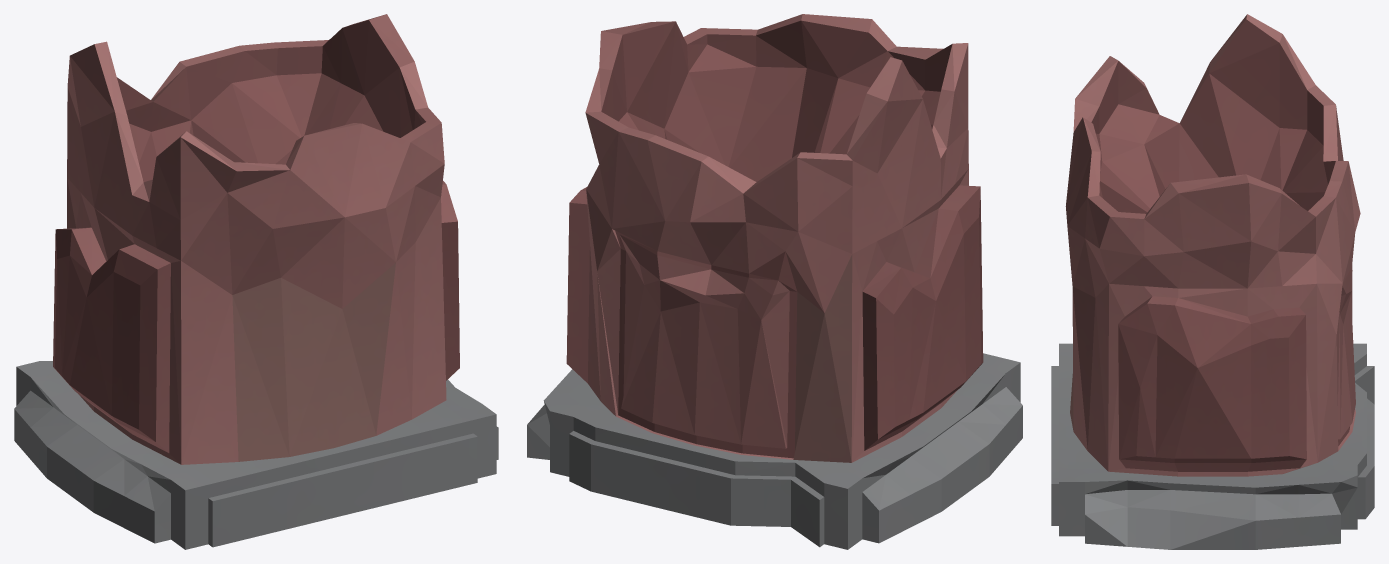
Rendered from gas_pump_D_destroyed.obj.
The picture shows the model from 3 angles, left to right: view 1: azimuth 30°, elevation 25°; view 2: azimuth 150°, elevation 25°; view 3: azimuth 270°, elevation 25°; orthographic projection. The views are drawn at different scales.
Parts seen in each view (by area): view 1: gas_pump_D_destroyed_Mesh; view 2: gas_pump_D_destroyed_Mesh; view 3: gas_pump_D_destroyed_Mesh.
Part boxes in pixels (left/top/right/bottom): gas_pump_D_destroyed_Mesh: left=14, top=14, right=498, bottom=549; gas_pump_D_destroyed_Mesh: left=527, top=14, right=1022, bottom=549; gas_pump_D_destroyed_Mesh: left=1051, top=14, right=1374, bottom=549.
Size of the model in its own units: 0.9162 by 1 by 0.7562.
